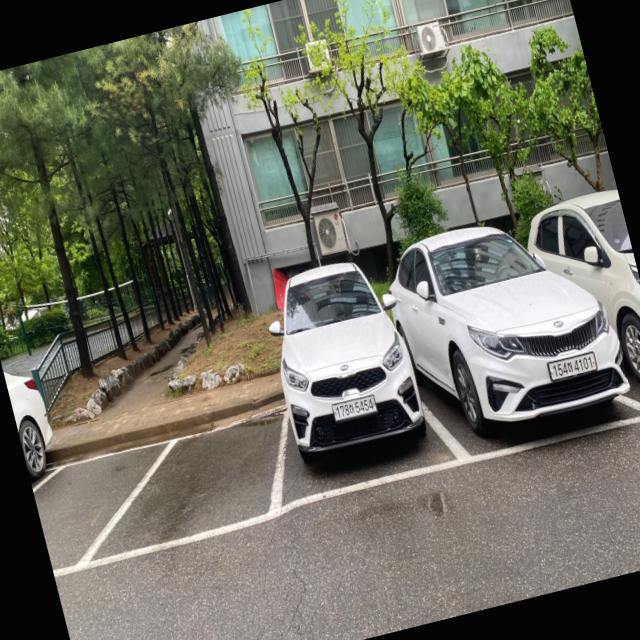car: (401, 198, 631, 438), (255, 249, 433, 468)
free: (75, 408, 288, 569), (32, 435, 183, 578)
